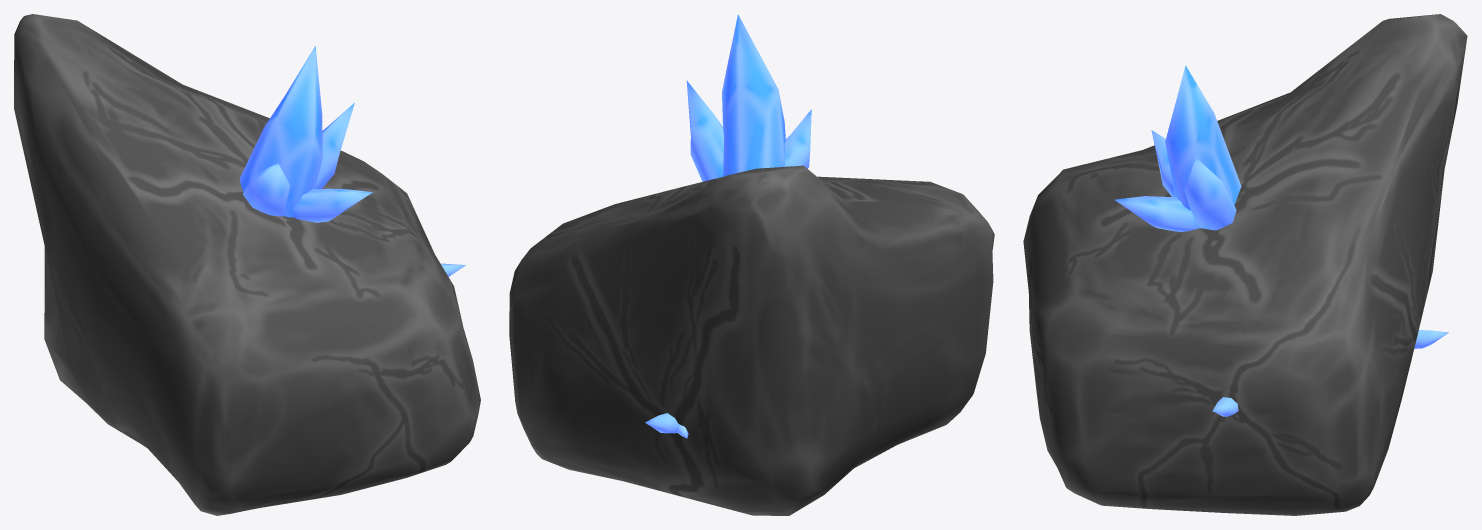
The model's file is ore.gltf.
3 renders of one model, left to right at view 1: azimuth 30°, elevation 25°; view 2: azimuth 150°, elevation 25°; view 3: azimuth 270°, elevation 25°, orthographic. The views are drawn at different scales.
Parts seen in each view (by area): view 1: stone_low, crystals_low; view 2: stone_low, crystals_low; view 3: stone_low, crystals_low.
Boxes of the visible parts, x1,y1,x2,y2 form: stone_low: (14, 14, 480, 515); crystals_low: (239, 46, 465, 276); stone_low: (509, 165, 994, 515); crystals_low: (645, 14, 811, 438); stone_low: (1023, 14, 1467, 515); crystals_low: (1114, 65, 1448, 416).
Bounding box in the file's own units: 2.39 × 2.65 × 2.61.
Materials: 1 (1 with a texture image).
